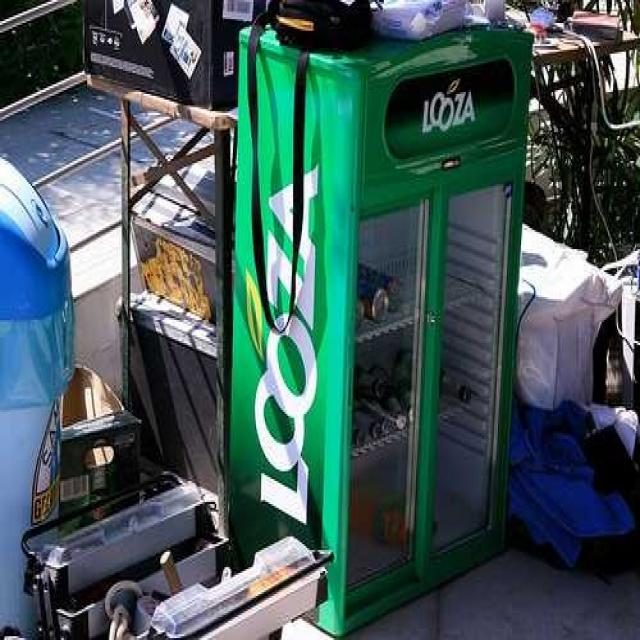refrigerator: (327, 31, 533, 638)
